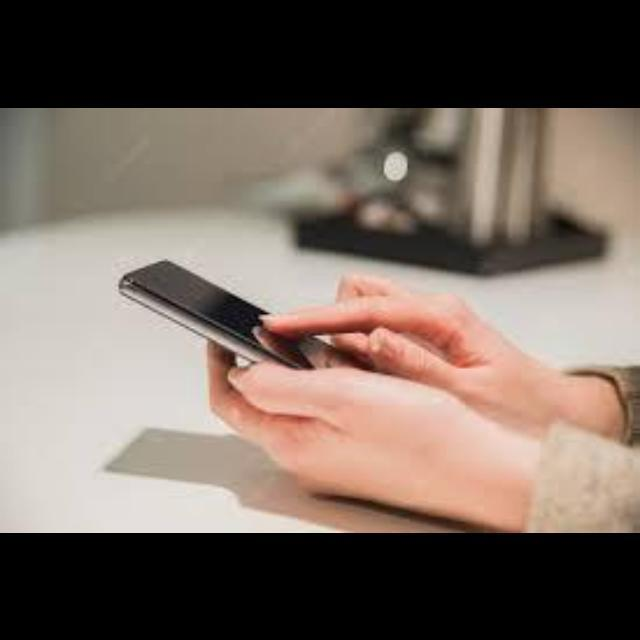PhoneUse: (110, 258, 378, 402)
